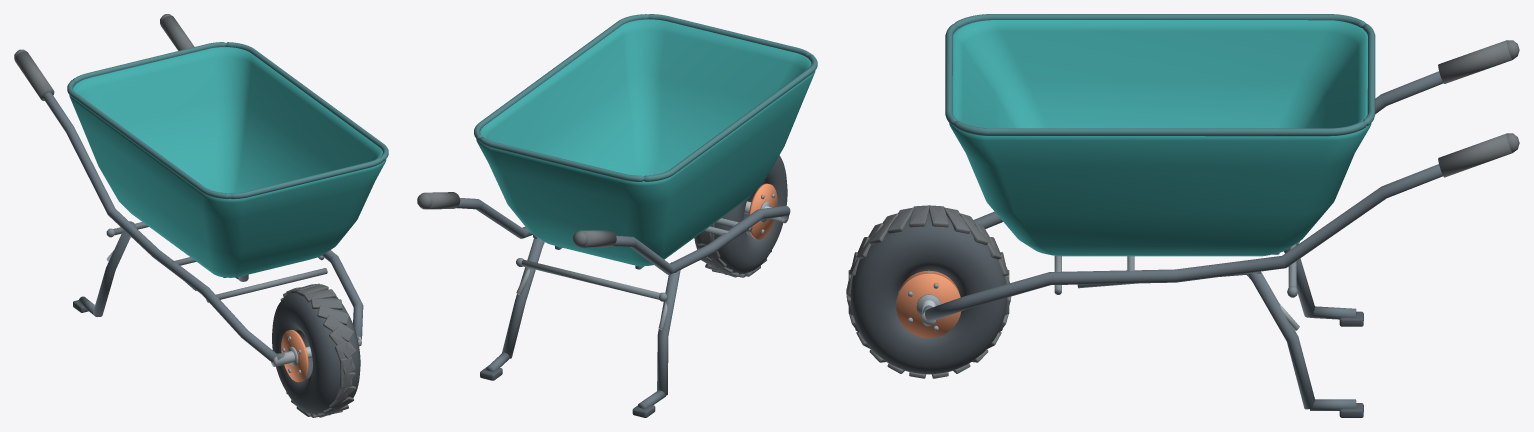
The model's file is CSE_Wheelbarrow.fbx.
3 views of the same model, side by side, from view 1: azimuth 30°, elevation 25°; view 2: azimuth 150°, elevation 25°; view 3: azimuth 270°, elevation 25° (orthographic). The views are drawn at different scales.
Parts seen in each view (by area): view 1: CSE_Wheelbarrow::000_Stamped_Continuous_Bowl_With_Interior, CSE_Wheelbarrow::005_Single_Tire_Continuous_Carcass, CSE_Wheelbarrow::001_Continuously_Rolled_Upper_Lip, CSE_Wheelbarrow::049_Continuous_Frame_Rail_L, CSE_Wheelbarrow::053_Backstand_Leg_L, CSE_Wheelbarrow::058_Continuous_Frame_Rail_R, CSE_Wheelbarrow::033_Orange_Hub_Face_-1, CSE_Wheelbarrow::050_NonSlip_Handle_Grip_L, CSE_Wheelbarrow::068_Front_Cross_Tie, CSE_Wheelbarrow::059_NonSlip_Handle_Grip_R; view 2: CSE_Wheelbarrow::000_Stamped_Continuous_Bowl_With_Interior, CSE_Wheelbarrow::001_Continuously_Rolled_Upper_Lip, CSE_Wheelbarrow::005_Single_Tire_Continuous_Carcass, CSE_Wheelbarrow::049_Continuous_Frame_Rail_L, CSE_Wheelbarrow::053_Backstand_Leg_L, CSE_Wheelbarrow::062_Backstand_Leg_R, CSE_Wheelbarrow::067_Rear_Cross_Tie_And_Brace, CSE_Wheelbarrow::058_Continuous_Frame_Rail_R, CSE_Wheelbarrow::033_Orange_Hub_Face_-1, CSE_Wheelbarrow::050_NonSlip_Handle_Grip_L, CSE_Wheelbarrow::059_NonSlip_Handle_Grip_R; view 3: CSE_Wheelbarrow::000_Stamped_Continuous_Bowl_With_Interior, CSE_Wheelbarrow::005_Single_Tire_Continuous_Carcass, CSE_Wheelbarrow::001_Continuously_Rolled_Upper_Lip, CSE_Wheelbarrow::058_Continuous_Frame_Rail_R, CSE_Wheelbarrow::041_Orange_Hub_Face_1, CSE_Wheelbarrow::062_Backstand_Leg_R, CSE_Wheelbarrow::050_NonSlip_Handle_Grip_L, CSE_Wheelbarrow::059_NonSlip_Handle_Grip_R, CSE_Wheelbarrow::049_Continuous_Frame_Rail_L, CSE_Wheelbarrow::053_Backstand_Leg_L.
Boxes of the visible parts, x1=… form: CSE_Wheelbarrow::000_Stamped_Continuous_Bowl_With_Interior: x1=69, y1=46, x2=386, y2=277; CSE_Wheelbarrow::005_Single_Tire_Continuous_Carcass: x1=272, y1=290, x2=360, y2=414; CSE_Wheelbarrow::001_Continuously_Rolled_Upper_Lip: x1=67, y1=42, x2=388, y2=199; CSE_Wheelbarrow::049_Continuous_Frame_Rail_L: x1=43, y1=92, x2=276, y2=362; CSE_Wheelbarrow::053_Backstand_Leg_L: x1=93, y1=221, x2=135, y2=316; CSE_Wheelbarrow::058_Continuous_Frame_Rail_R: x1=322, y1=250, x2=363, y2=339; CSE_Wheelbarrow::033_Orange_Hub_Face_-1: x1=281, y1=329, x2=308, y2=382; CSE_Wheelbarrow::050_NonSlip_Handle_Grip_L: x1=14, y1=51, x2=54, y2=100; CSE_Wheelbarrow::068_Front_Cross_Tie: x1=206, y1=268, x2=327, y2=302; CSE_Wheelbarrow::059_NonSlip_Handle_Grip_R: x1=160, y1=15, x2=194, y2=50; CSE_Wheelbarrow::000_Stamped_Continuous_Bowl_With_Interior: x1=476, y1=19, x2=815, y2=266; CSE_Wheelbarrow::001_Continuously_Rolled_Upper_Lip: x1=474, y1=14, x2=817, y2=182; CSE_Wheelbarrow::005_Single_Tire_Continuous_Carcass: x1=694, y1=155, x2=787, y2=274; CSE_Wheelbarrow::049_Continuous_Frame_Rail_L: x1=613, y1=205, x2=790, y2=274; CSE_Wheelbarrow::053_Backstand_Leg_L: x1=657, y1=262, x2=680, y2=395; CSE_Wheelbarrow::062_Backstand_Leg_R: x1=502, y1=237, x2=543, y2=358; CSE_Wheelbarrow::067_Rear_Cross_Tie_And_Brace: x1=521, y1=259, x2=660, y2=299; CSE_Wheelbarrow::058_Continuous_Frame_Rail_R: x1=456, y1=198, x2=532, y2=238; CSE_Wheelbarrow::033_Orange_Hub_Face_-1: x1=748, y1=183, x2=777, y2=239; CSE_Wheelbarrow::050_NonSlip_Handle_Grip_L: x1=580, y1=230, x2=616, y2=247; CSE_Wheelbarrow::059_NonSlip_Handle_Grip_R: x1=421, y1=192, x2=460, y2=209; CSE_Wheelbarrow::000_Stamped_Continuous_Bowl_With_Interior: x1=949, y1=20, x2=1371, y2=256; CSE_Wheelbarrow::005_Single_Tire_Continuous_Carcass: x1=850, y1=212, x2=1007, y2=374; CSE_Wheelbarrow::001_Continuously_Rolled_Upper_Lip: x1=945, y1=14, x2=1375, y2=136; CSE_Wheelbarrow::058_Continuous_Frame_Rail_R: x1=925, y1=164, x2=1442, y2=321; CSE_Wheelbarrow::041_Orange_Hub_Face_1: x1=896, y1=273, x2=961, y2=338; CSE_Wheelbarrow::062_Backstand_Leg_R: x1=1248, y1=272, x2=1314, y2=409; CSE_Wheelbarrow::050_NonSlip_Handle_Grip_L: x1=1438, y1=40, x2=1512, y2=83; CSE_Wheelbarrow::059_NonSlip_Handle_Grip_R: x1=1438, y1=133, x2=1512, y2=177; CSE_Wheelbarrow::049_Continuous_Frame_Rail_L: x1=973, y1=71, x2=1443, y2=228; CSE_Wheelbarrow::053_Backstand_Leg_L: x1=1284, y1=248, x2=1314, y2=317.
Size of the model in its own units: 0.64 by 0.76 by 1.55.
